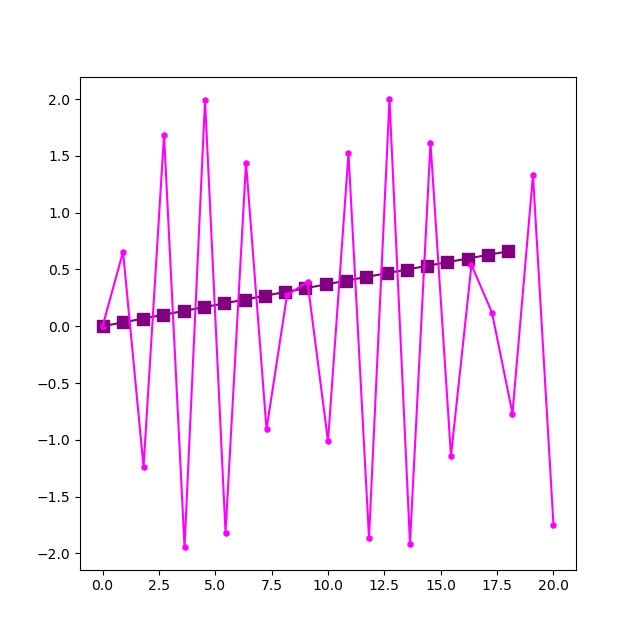hexagon1: (99, 322, 108, 331), (119, 248, 128, 257), (140, 463, 149, 472), (160, 131, 169, 140), (181, 543, 190, 552), (201, 96, 210, 105), (222, 529, 231, 538), (242, 159, 251, 168), (263, 425, 272, 434), (283, 291, 292, 300), (304, 278, 313, 287), (324, 437, 333, 446), (344, 149, 353, 158), (365, 534, 374, 543), (385, 95, 394, 104), (406, 540, 415, 549), (426, 139, 435, 148), (447, 452, 456, 461), (467, 261, 476, 270), (488, 309, 497, 318), (508, 410, 517, 419), (529, 171, 538, 180), (549, 521, 558, 530)
square: (97, 320, 110, 333), (117, 316, 130, 329), (137, 313, 150, 326), (157, 309, 170, 322), (178, 305, 191, 318), (198, 301, 211, 314), (218, 297, 231, 310), (239, 294, 252, 307), (259, 290, 272, 303), (279, 286, 292, 299), (299, 282, 312, 295), (320, 278, 333, 291), (340, 275, 353, 288), (360, 271, 373, 284), (381, 267, 394, 280), (401, 264, 414, 277), (421, 260, 434, 273), (441, 256, 454, 269), (462, 253, 475, 266), (482, 249, 495, 262), (502, 245, 515, 258)
